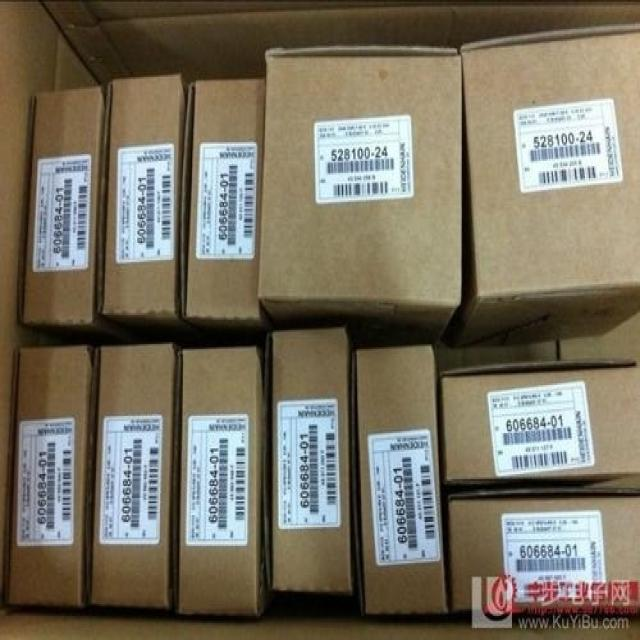box: (445, 22, 639, 346), (259, 50, 461, 306), (352, 347, 447, 613), (86, 346, 179, 609), (440, 361, 640, 483), (448, 489, 639, 613), (175, 349, 264, 614), (264, 329, 353, 592), (8, 346, 93, 606), (99, 75, 188, 317), (17, 89, 100, 323), (182, 79, 262, 317)
